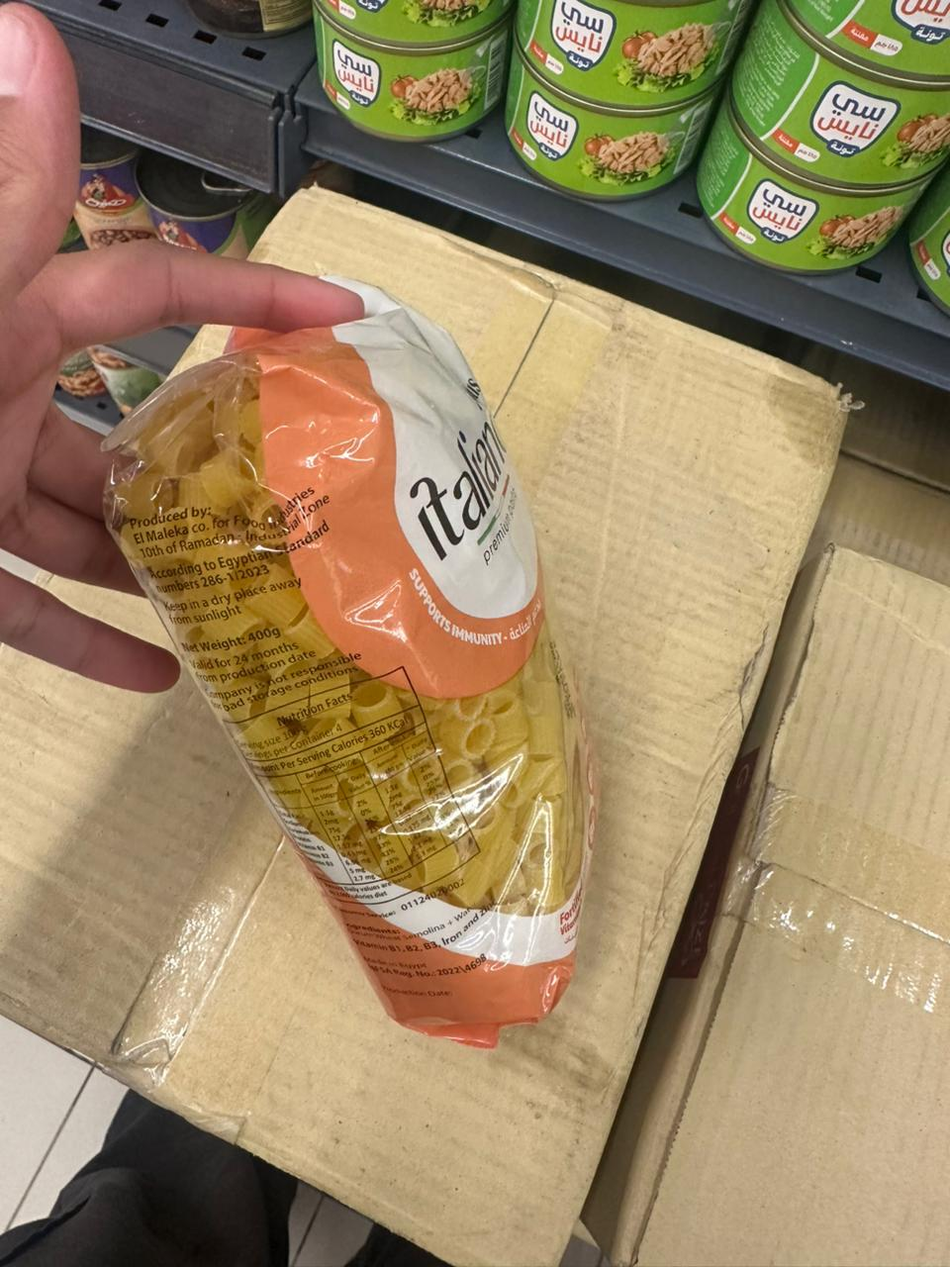pasta: (102, 236, 550, 1060)
